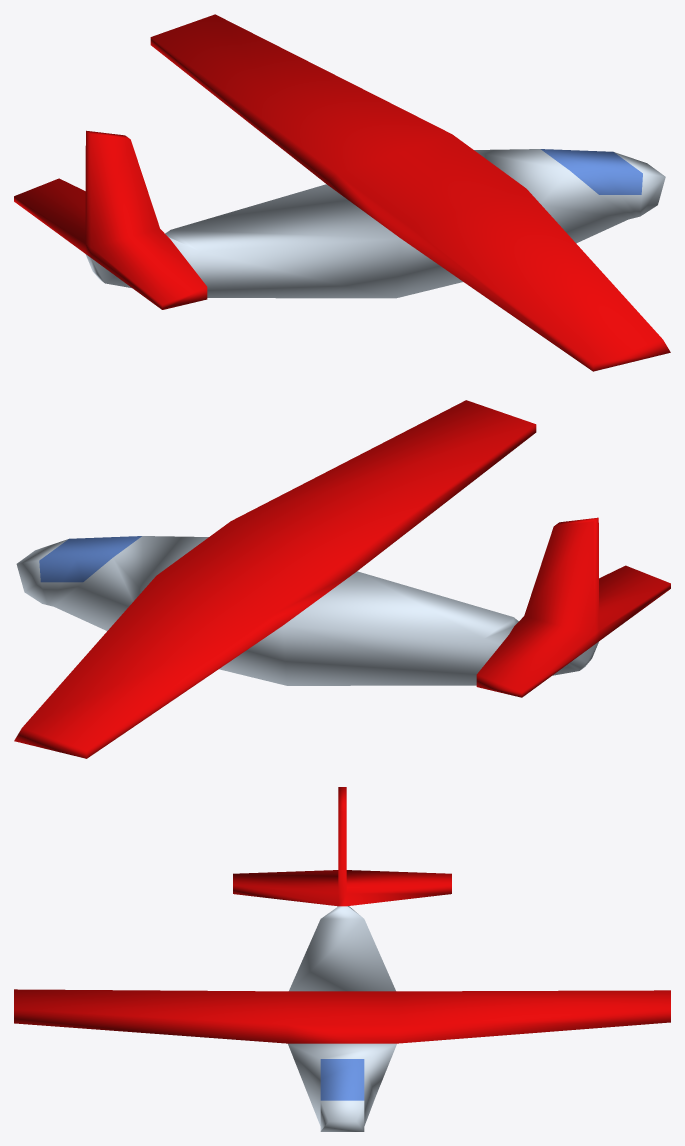
3 views of the same model, one above another, from view 1: azimuth 30°, elevation 25°; view 2: azimuth 150°, elevation 25°; view 3: azimuth 270°, elevation 25° (orthographic). The views are drawn at different scales.
Visible parts, largest first — view 1: Cube; view 2: Cube; view 3: Cube.
Boxes of the visible parts, left/top/right/bottom form: Cube: left=14, top=14, right=670, bottom=371; Cube: left=14, top=400, right=670, bottom=758; Cube: left=14, top=787, right=670, bottom=1131.
Bounding box in the file's own units: 885 × 326 × 1200.
